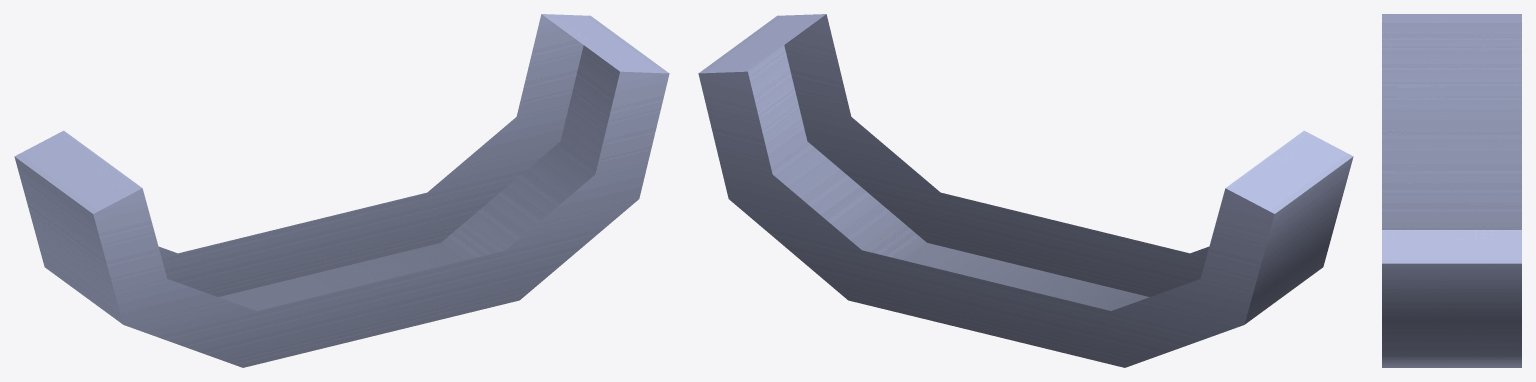
The model's file is coaster-kit--coaster-flume-segment.glb.
3 renders of one model, left to right at view 1: azimuth 30°, elevation 25°; view 2: azimuth 150°, elevation 25°; view 3: azimuth 270°, elevation 25°, orthographic. The views are drawn at different scales.
Parts seen in each view (by area): view 1: coaster-flume-segment; view 2: coaster-flume-segment; view 3: coaster-flume-segment.
Boxes of the visible parts, x1,y1,x2,y2 form: coaster-flume-segment: (14,14,669,367); coaster-flume-segment: (698,14,1353,367); coaster-flume-segment: (1382,14,1521,367).
Size of the model in its own units: 0.8446 by 0.286 by 0.2.
Materials: 1 (1 with a texture image).
